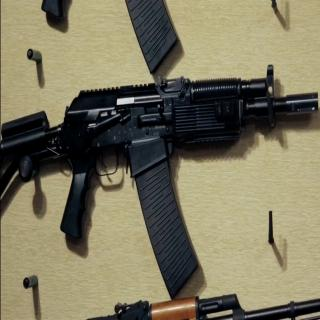gun: (2, 60, 318, 285)
